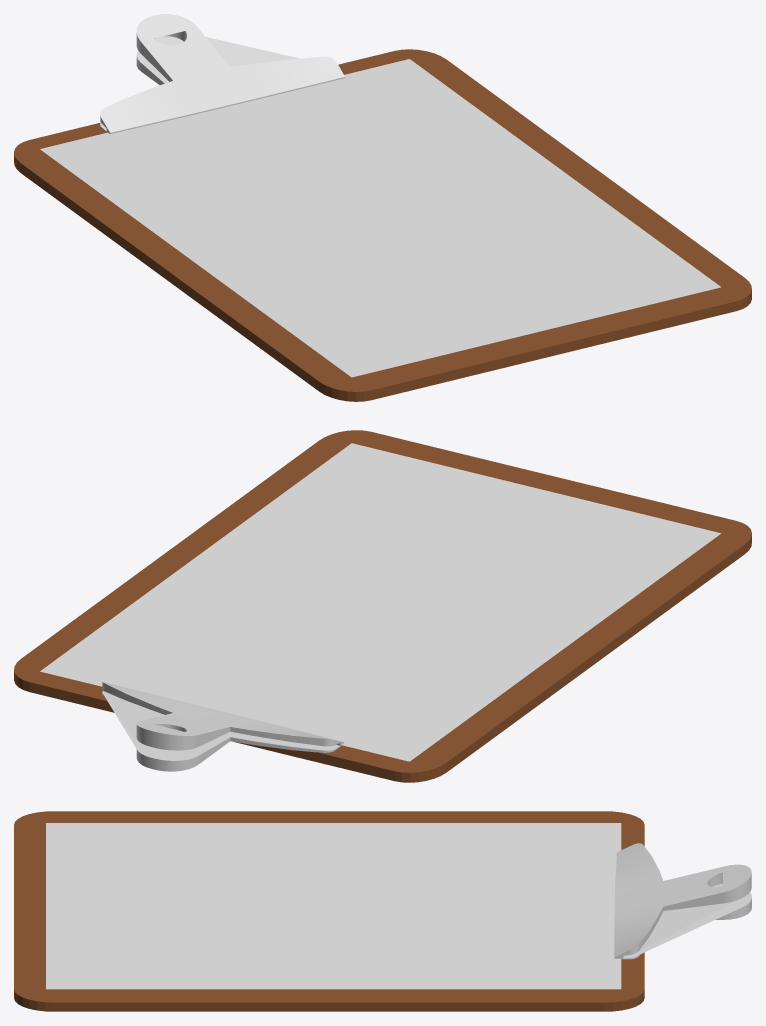
File: ClipBoard.fbx
3 renders of one model, top to bottom at view 1: azimuth 30°, elevation 25°; view 2: azimuth 150°, elevation 25°; view 3: azimuth 270°, elevation 25°, orthographic. The views are drawn at different scales.
Visible parts, largest first — view 1: Plane, Board, Cube.001; view 2: Plane, Board, Cube.001; view 3: Plane, Board, Cube.001.
Boxes of the visible parts, box(x1,y1,x2,y2) form: Plane: box(40, 59, 720, 377); Board: box(14, 49, 751, 401); Cube.001: box(100, 14, 345, 134); Plane: box(40, 443, 721, 761); Board: box(14, 430, 751, 782); Cube.001: box(102, 681, 343, 771); Plane: box(46, 823, 621, 989); Board: box(14, 811, 644, 1011); Cube.001: box(614, 843, 751, 959).
Bounding box in the file's own units: 8.95 × 0.9546 × 14.58.
